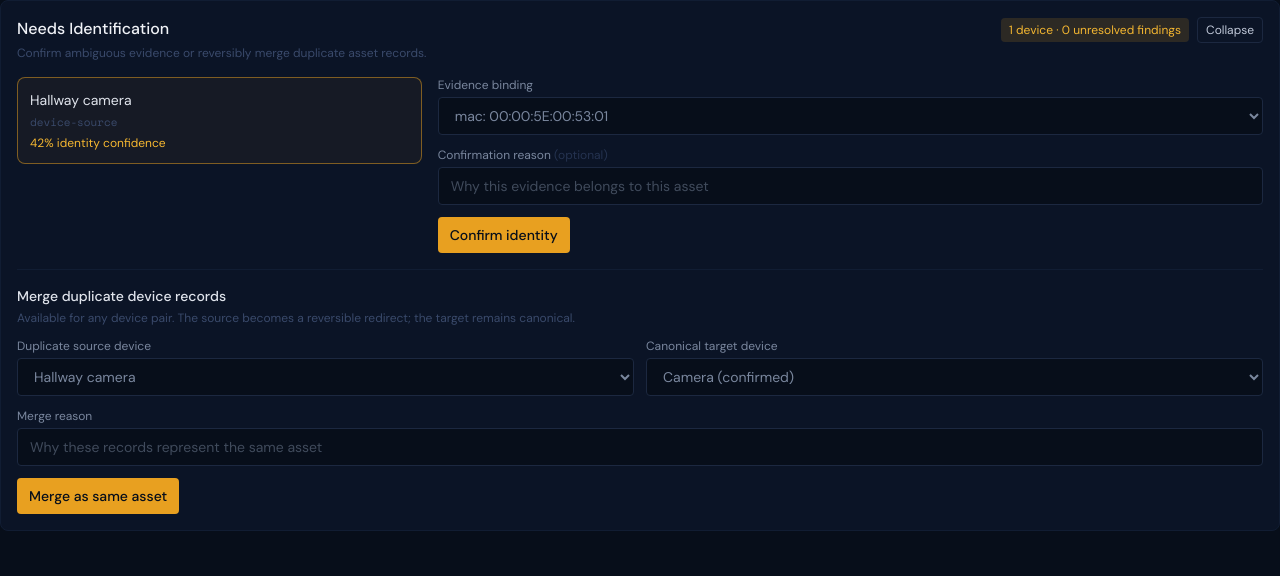
Needs Identification workflow › confirms selected evidence as an audited operator action
Type "Matched the asset inventory label" into the field labelled "Confirmation reason (optional)". click: (850, 186)
box: [438,167,1263,205]
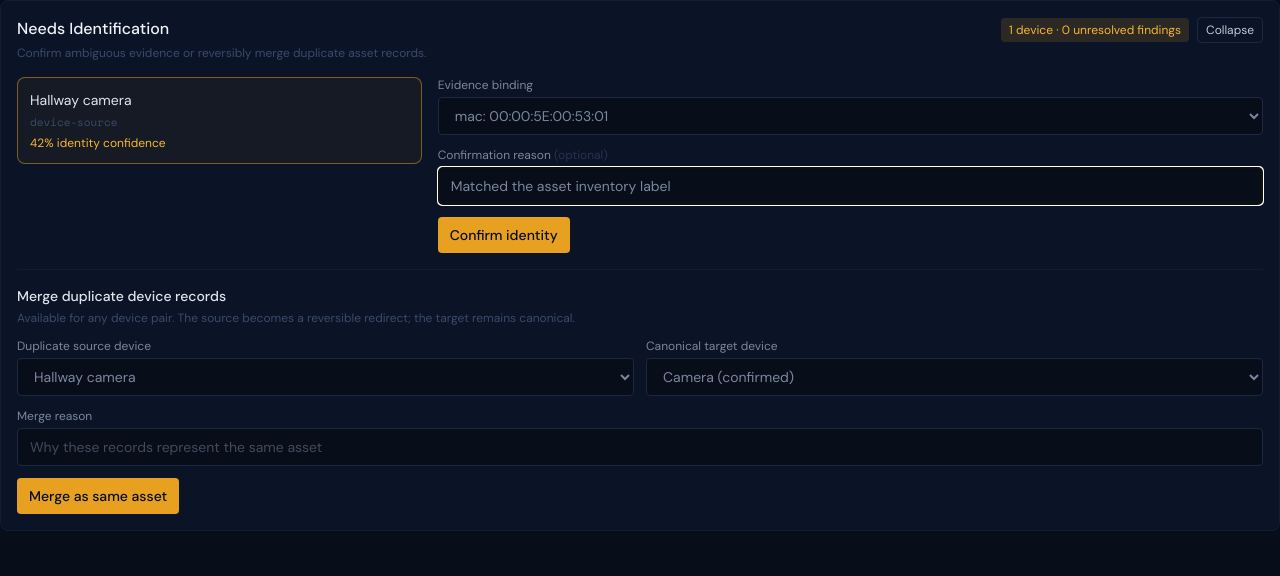
Click the button "Confirm identity". click: (504, 235)
box: [438,217,570,253]
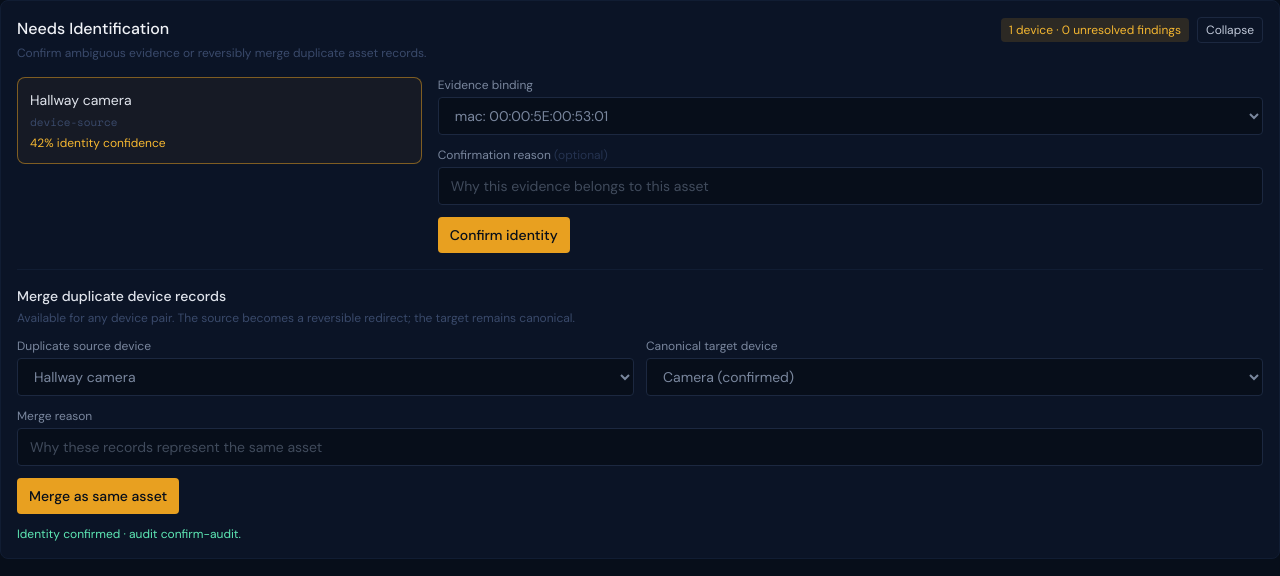
Expected: the text "Hallway camera" is shown, [30,91,132,109]
Now the message shows "audit confirm-audit", box [17,526,241,542]
